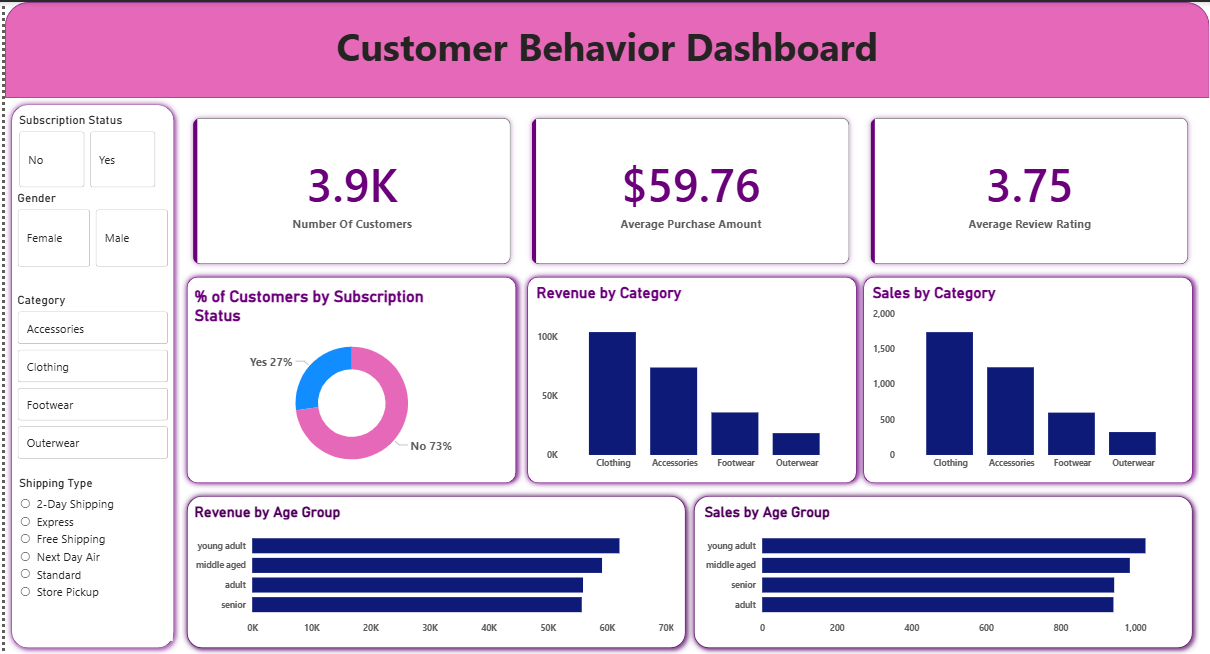

The dashboard page shown, as its layout file describes it:
{"tool":"powerbi","page":{"name":"Customer  Shopping Behavior","canvas":[1700,920],"ordinal":0},"visuals":[{"type":"cardVisual","fields":{"Data":["customer.number of customers","customer.Avegare purchase amount","customer.average review rating"]},"box":[237.1,135.5,1462.6,262.5],"z":0},{"type":"shape","box":[0,0,1699.6,135.5],"z":1000},{"type":"textbox","box":[0,21.2,1699.6,114.3],"z":2000},{"type":"shape","box":[247.6,378.9,482.6,309],"z":3000},{"type":"donutChart","title":"% of Customers by Subscription Status","fields":{"Category":["customer.subscription_status"],"Y":["CountNonNull(customer.customer_id)"]},"box":[262.5,402.2,453,270.9],"z":4000},{"type":"shape","box":[728.1,378.9,482.6,309],"z":5000},{"type":"shape","box":[1202.2,378.9,482.6,309],"z":6000},{"type":"clusteredColumnChart","title":"Revenue by Category","fields":{"Y":["Sum(customer.purchase_amount)"],"Category":["customer.category"]},"box":[745,397.9,446.6,270.9],"z":7000},{"type":"clusteredColumnChart","title":"Sales by Category","fields":{"Category":["customer.category"],"Y":["CountNonNull(customer.customer_id)"]},"box":[1219.2,397.9,446.6,270.9],"z":8000},{"type":"shape","box":[0,135.5,247.6,785.3],"z":9000},{"type":"advancedSlicerVisual","title":"Subscription Status","fields":{"Values":["customer.subscription_status"]},"box":[14.8,156.6,203.2,110.1],"z":10000},{"type":"advancedSlicerVisual","title":"Gender","fields":{"Values":["customer.gender"]},"box":[12.7,266.7,222.2,112.2],"z":11000},{"type":"listSlicer","fields":{"Values":["customer.shipping_type"]},"box":[14.8,668.9,222.2,232.8],"z":12000},{"type":"advancedSlicerVisual","fields":{"Values":["customer.category"]},"box":[12.7,410.6,222.2,239.2],"z":13000},{"type":"shape","box":[247.6,687.9,721.8,232.8],"z":14000},{"type":"clusteredBarChart","title":"Revenue by Age Group","fields":{"Y":["Sum(customer.purchase_amount)"],"Category":["customer.age_group"]},"box":[262.5,706.9,685.8,194.7],"z":15000},{"type":"shape","box":[963.1,687.9,721.8,232.8],"z":16000},{"type":"clusteredBarChart","title":"Sales by Age Group","fields":{"Category":["customer.age_group"],"Y":["CountNonNull(customer.customer_id)"]},"box":[982.1,706.9,685.8,194.7],"z":17000}]}

Visuals, with their boxes in screenshot pixels (x1, y1, x2, y2), scaled from the page's 1700x920 canvas onto the 1210x654 screenshot:
cardVisual - customer.number of customers x customer.Avegare purchase amount: rect(169, 96, 1209, 283)
shape: rect(0, 0, 1209, 96)
textbox: rect(0, 15, 1209, 96)
shape: rect(176, 269, 520, 489)
"% of Customers by Subscription Status" donutChart: rect(187, 286, 509, 478)
shape: rect(518, 269, 862, 489)
shape: rect(856, 269, 1199, 489)
"Revenue by Category" clusteredColumnChart: rect(530, 283, 848, 475)
"Sales by Category" clusteredColumnChart: rect(868, 283, 1186, 475)
shape: rect(0, 96, 176, 653)
"Subscription Status" advancedSlicerVisual: rect(11, 111, 155, 190)
"Gender" advancedSlicerVisual: rect(9, 190, 167, 269)
listSlicer - customer.shipping_type: rect(11, 476, 169, 641)
advancedSlicerVisual - customer.category: rect(9, 292, 167, 462)
shape: rect(176, 489, 690, 653)
"Revenue by Age Group" clusteredBarChart: rect(187, 503, 675, 641)
shape: rect(686, 489, 1199, 653)
"Sales by Age Group" clusteredBarChart: rect(699, 503, 1187, 641)
